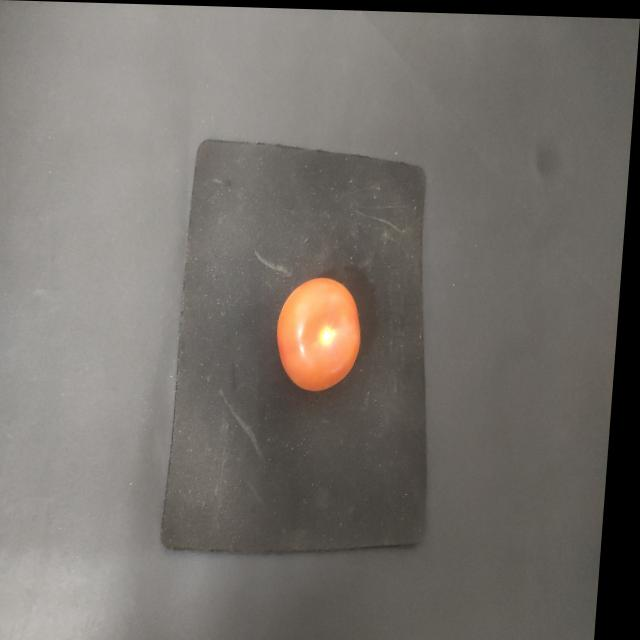sari: (276, 261, 378, 404)
